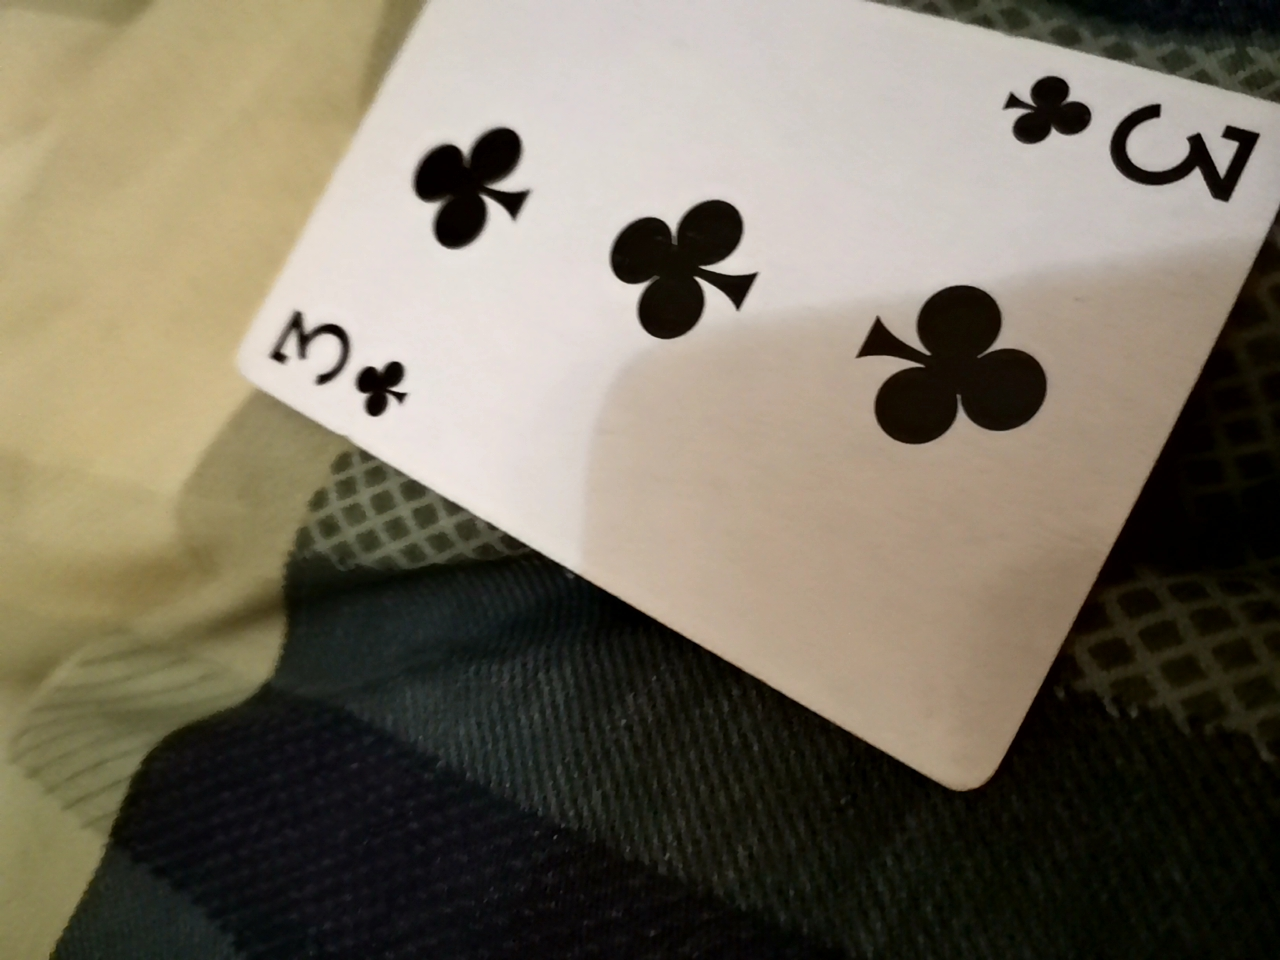mh 3: (251, 4, 1271, 802)
